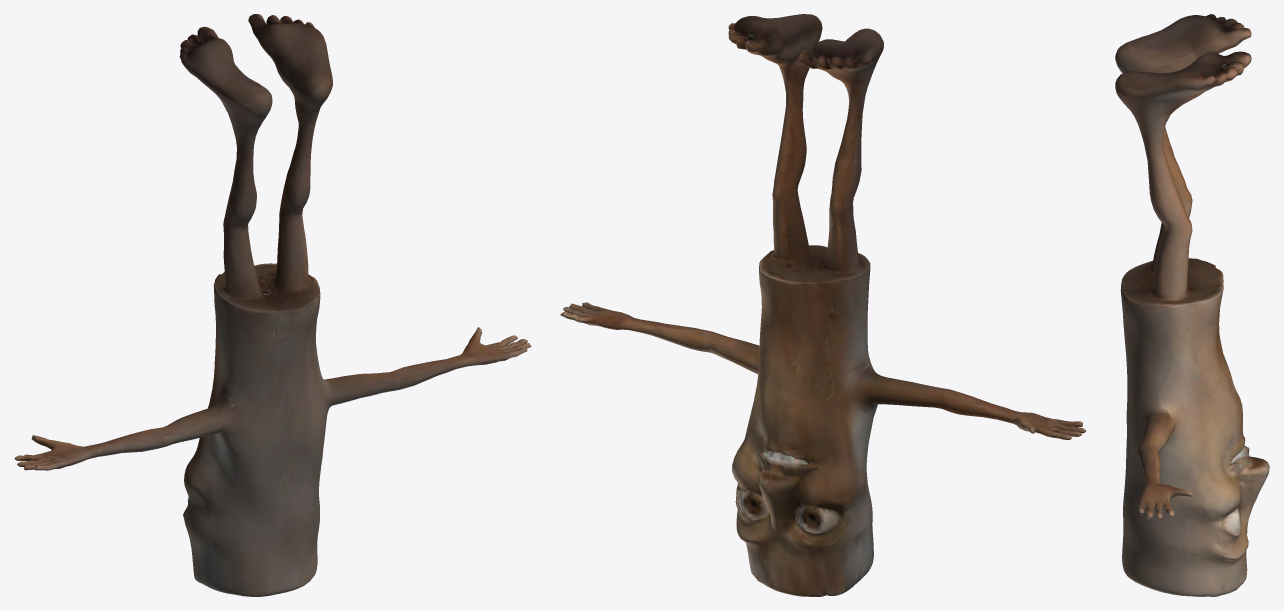
The model's file is Horror_Skunx_Tung_Tung_Tung_Sahur.obj.
The picture shows the model from 3 angles, left to right: view 1: azimuth 30°, elevation 25°; view 2: azimuth 150°, elevation 25°; view 3: azimuth 270°, elevation 25°; orthographic projection.
Visible parts, largest first — view 1: tripo_node_1a766a31_tripo_mat_1a766a31_0; view 2: tripo_node_1a766a31_tripo_mat_1a766a31_0; view 3: tripo_node_1a766a31_tripo_mat_1a766a31_0.
Part boxes in pixels (x1=…): tripo_node_1a766a31_tripo_mat_1a766a31_0: x1=14, y1=14, x2=531, y2=596; tripo_node_1a766a31_tripo_mat_1a766a31_0: x1=560, y1=14, x2=1085, y2=596; tripo_node_1a766a31_tripo_mat_1a766a31_0: x1=1115, y1=14, x2=1269, y2=596.
Bounding box in the file's own units: 0.9918 × 1 × 0.259.
1 material, 1 textured.
